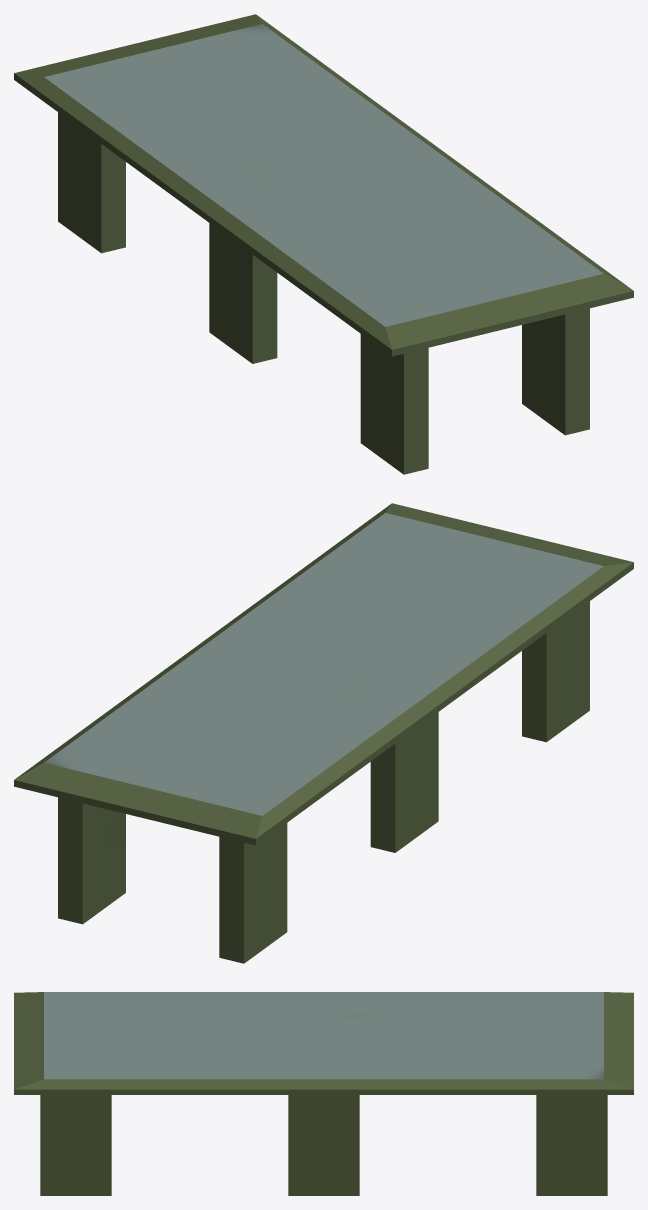
File: Mesa2.fbx
3 renders of one model, top to bottom at view 1: azimuth 30°, elevation 25°; view 2: azimuth 150°, elevation 25°; view 3: azimuth 270°, elevation 25°, orthographic. The views are drawn at different scales.
Visible parts, largest first — view 1: Cube; view 2: Cube; view 3: Cube.
Part boxes in pixels (x1,y1,x2,y2): Cube: (14,14,633,474); Cube: (14,503,633,963); Cube: (14,992,633,1195).
Bounding box in the file's own units: 1794 × 1064 × 4856.
Materials: 1 (1 with a texture image).
